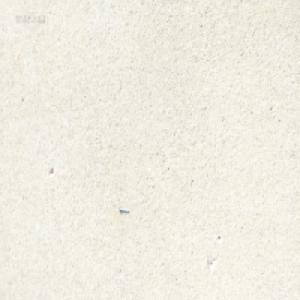Nail: (118, 206, 129, 214)
